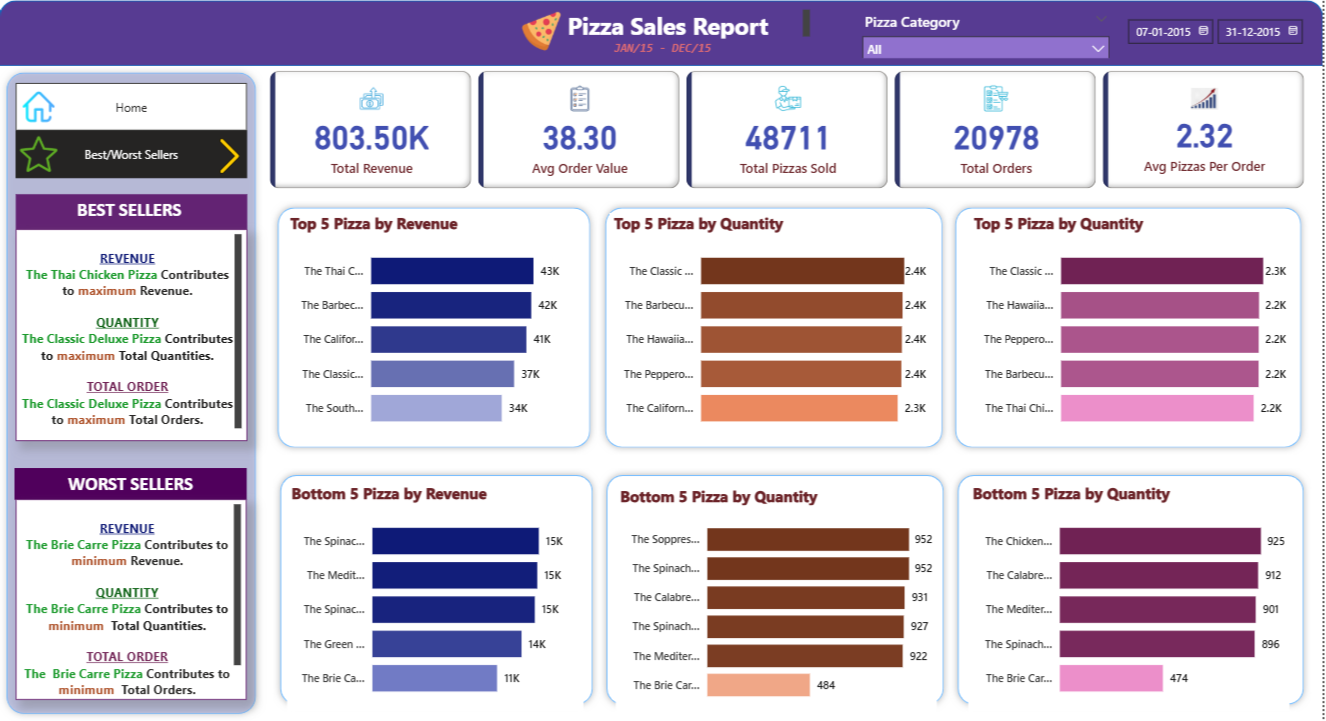

This screenshot's page, from the dashboard's own definition file:
{"tool":"powerbi","page":{"name":"Best/Worst Sellers","canvas":[1500,820],"ordinal":1},"visuals":[{"type":"cardVisual","fields":{"Data":["pizza_sales.Total Revenue","pizza_sales.Avg Order Value","pizza_sales.Total Pizaas Sold","pizza_sales.Total Orders","pizza_sales.Avg Pizzas Per Order"]},"box":[301.5,77.6,1182.1,143.3],"z":0},{"type":"shape","box":[0,2.9,1500,74.3],"z":1000},{"type":"textbox","box":[598.6,8.6,324.3,42.9],"z":2000},{"type":"textbox","box":[691.4,42.9,138.6,34.3],"z":3000},{"type":"image","box":[587.1,8.6,55.7,58.6],"z":4000},{"type":"shape","box":[678,230,398,288],"z":5000},{"type":"shape","box":[0,77.1,298.6,742.9],"z":6000},{"type":"textbox","box":[18,222,262,40],"z":7000},{"type":"textbox","box":[18,262,262,240],"z":8000},{"type":"textbox","box":[17.1,532.9,262.9,35.7],"z":9000},{"type":"textbox","box":[18.6,568.6,261.4,227.1],"z":10000},{"type":"slicer","fields":{"Values":["pizza_sales.pizza_category"]},"box":[967.1,10,300,58.6],"z":11000},{"type":"slicer","fields":{"Values":["pizza_sales.order_date"]},"box":[1267.1,14.3,217.1,50],"z":12000},{"type":"shape","box":[308,230,370,288],"z":13000},{"type":"shape","box":[1076,230,408,288],"z":14000},{"type":"shape","box":[310,532,370,276],"z":15000},{"type":"shape","box":[680,532,398,276],"z":16000},{"type":"shape","box":[1078,532,408,276],"z":17000},{"type":"barChart","title":"Top 5 Pizza by Revenue","fields":{"Category":["pizza_sales.pizza_name"],"Y":["pizza_sales.Total Revenue"]},"box":[324,244,336,258],"z":18000},{"type":"barChart","title":"Bottom 5 Pizza by Revenue","fields":{"Category":["pizza_sales.pizza_name"],"Y":["pizza_sales.Total Revenue"]},"box":[326,550,336,258],"z":19000},{"type":"barChart","title":"Top 5 Pizza by Quantity","fields":{"Category":["pizza_sales.pizza_name"],"Y":["pizza_sales.Total Pizzas Sold"]},"box":[692,244,364,258],"z":20000},{"type":"barChart","title":"Bottom 5 Pizza by Quantity","fields":{"Category":["pizza_sales.pizza_name"],"Y":["pizza_sales.Total Pizzas Sold"]},"box":[698,552,364,258],"z":21000},{"type":"barChart","title":"Top 5 Pizza by Quantity","fields":{"Category":["pizza_sales.pizza_name"],"Y":["pizza_sales.Total Orders"]},"box":[1100,244,364,258],"z":22000},{"type":"barChart","title":"Bottom 5 Pizza by Quantity","fields":{"Category":["pizza_sales.pizza_name"],"Y":["pizza_sales.Total Orders"]},"box":[1098,550,364,258],"z":23000},{"type":"pageNavigator","box":[18,96,262,54],"z":24000},{"type":"pageNavigator","box":[18,150,262,54],"z":25000},{"type":"image","box":[222,154,76,50],"z":26000},{"type":"image","box":[18,100,52,46],"z":27000},{"type":"image","box":[18,150,52,54],"z":28000}]}

Visuals, with their boxes in screenshot pixels (x1, y1, x2, y2), scaled from the page's 1500x820 canvas onto the 1326x721 screenshot:
cardVisual - pizza_sales.Total Revenue x pizza_sales.Avg Order Value: crop(267, 68, 1312, 194)
shape: crop(0, 3, 1325, 68)
textbox: crop(529, 8, 816, 45)
textbox: crop(611, 38, 734, 68)
image: crop(519, 8, 568, 59)
shape: crop(599, 202, 951, 455)
shape: crop(0, 68, 264, 720)
textbox: crop(16, 195, 248, 230)
textbox: crop(16, 230, 248, 441)
textbox: crop(15, 469, 248, 500)
textbox: crop(16, 500, 248, 700)
slicer - pizza_sales.pizza_category: crop(855, 9, 1120, 60)
slicer - pizza_sales.order_date: crop(1120, 13, 1312, 57)
shape: crop(272, 202, 599, 455)
shape: crop(951, 202, 1312, 455)
shape: crop(274, 468, 601, 710)
shape: crop(601, 468, 953, 710)
shape: crop(953, 468, 1314, 710)
"Top 5 Pizza by Revenue" barChart: crop(286, 215, 583, 441)
"Bottom 5 Pizza by Revenue" barChart: crop(288, 484, 585, 710)
"Top 5 Pizza by Quantity" barChart: crop(612, 215, 934, 441)
"Bottom 5 Pizza by Quantity" barChart: crop(617, 485, 939, 712)
"Top 5 Pizza by Quantity" barChart: crop(972, 215, 1294, 441)
"Bottom 5 Pizza by Quantity" barChart: crop(971, 484, 1292, 710)
pageNavigator: crop(16, 84, 248, 132)
pageNavigator: crop(16, 132, 248, 179)
image: crop(196, 135, 263, 179)
image: crop(16, 88, 62, 128)
image: crop(16, 132, 62, 179)
